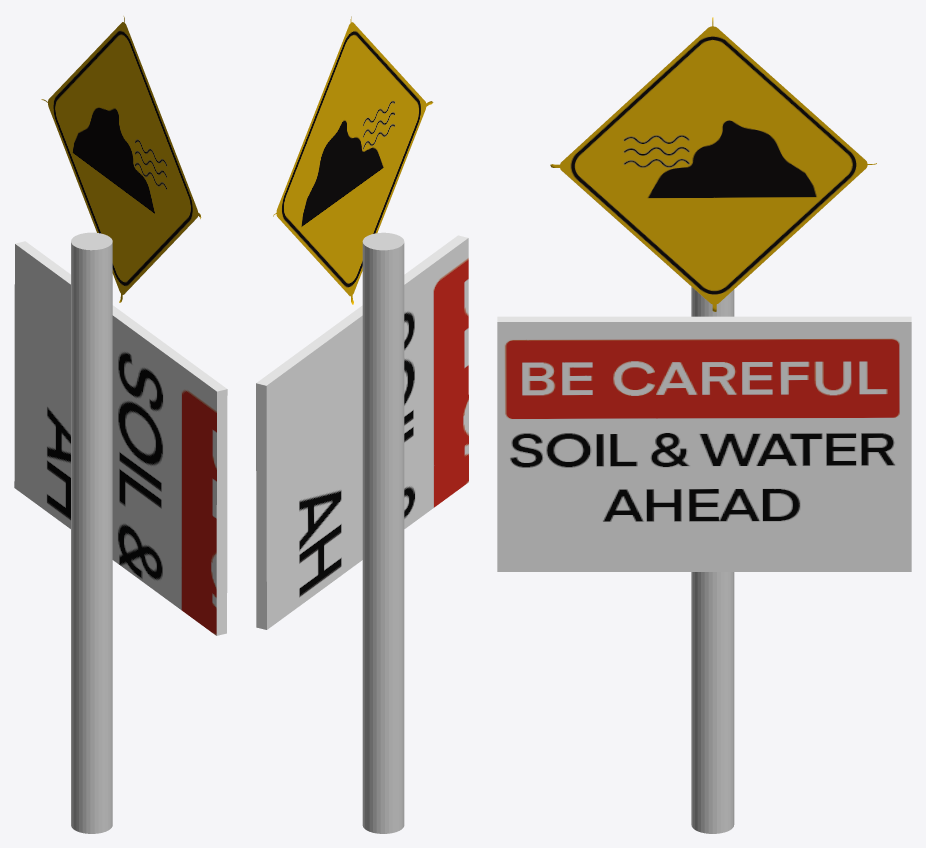
File: guide.fbx
3 views of the same model, side by side, from view 1: azimuth 30°, elevation 25°; view 2: azimuth 150°, elevation 25°; view 3: azimuth 270°, elevation 25° (orthographic). The views are drawn at different scales.
Parts seen in each view (by area): view 1: Cube, Cylinder, Plane; view 2: Cube, Cylinder, Plane; view 3: Cube, Plane, Cylinder.
Boxes of the visible parts, x1,y1,x2,y2 form: Cube: [14, 241, 227, 635]; Cylinder: [71, 232, 112, 833]; Plane: [41, 16, 201, 302]; Cube: [256, 235, 468, 629]; Cylinder: [362, 232, 404, 833]; Plane: [273, 16, 433, 304]; Cube: [497, 316, 911, 571]; Plane: [550, 17, 876, 311]; Cylinder: [691, 287, 734, 833].
Size of the model in its own units: 27.49 by 418 by 190.
2 materials, 2 textured.
